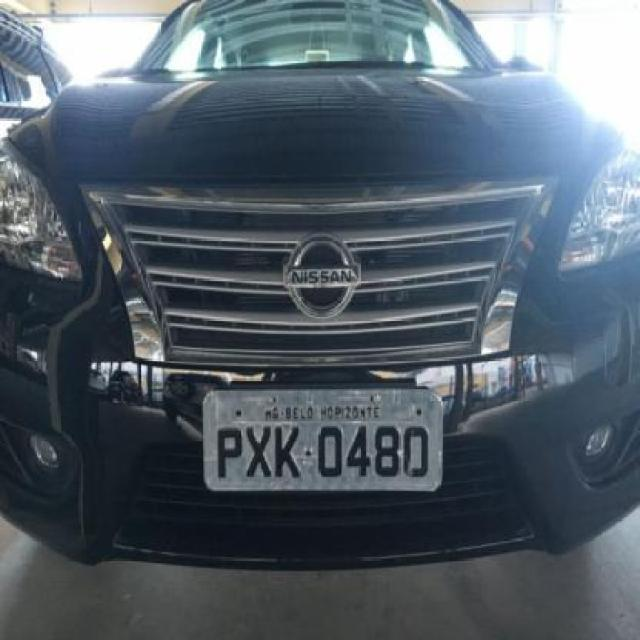old_plate: (197, 383, 449, 498)
